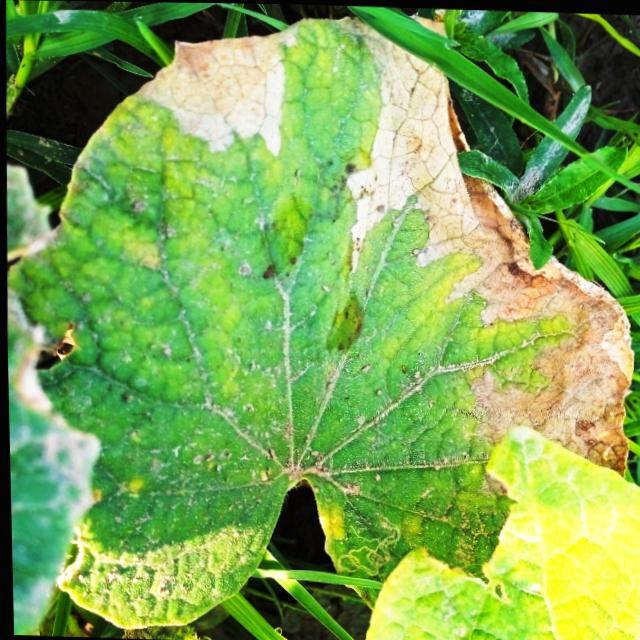Gummy-Stem-Blight: (339, 17, 638, 478), (133, 21, 296, 159)
